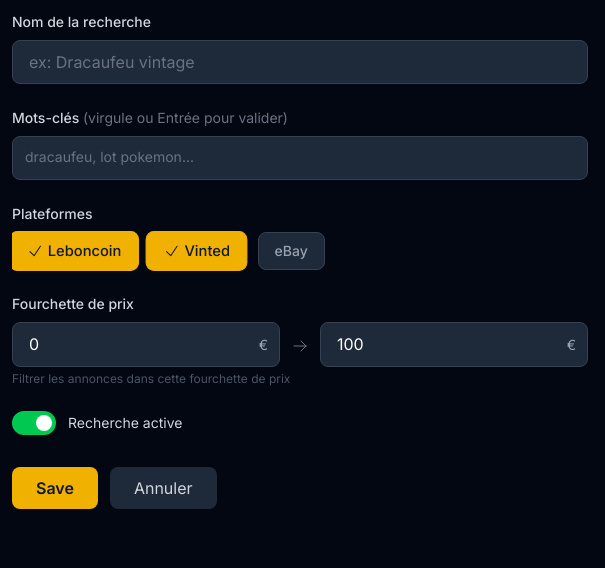
Test: SearchForm — interaction keywords › ajoute un keyword en appuyant sur Entrée
Type "pikachu" into the field with test id "keyword-input". click: (300, 157)
box: x1=25 y1=145 x2=575 y2=169
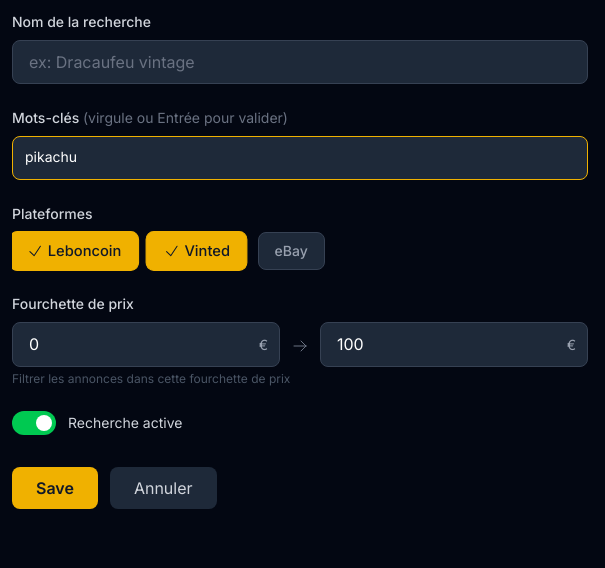
Press Enter in the field with test id "keyword-input", box x1=25 y1=145 x2=575 y2=169
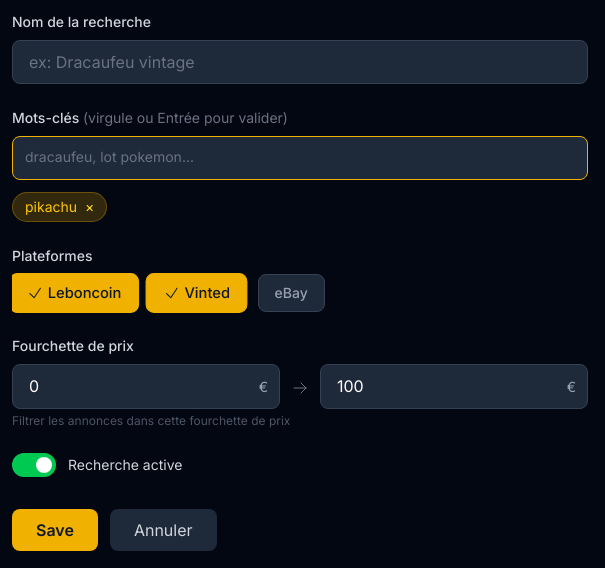
Check: the text "pikachu" is shown, box x1=25 y1=197 x2=77 y2=217
